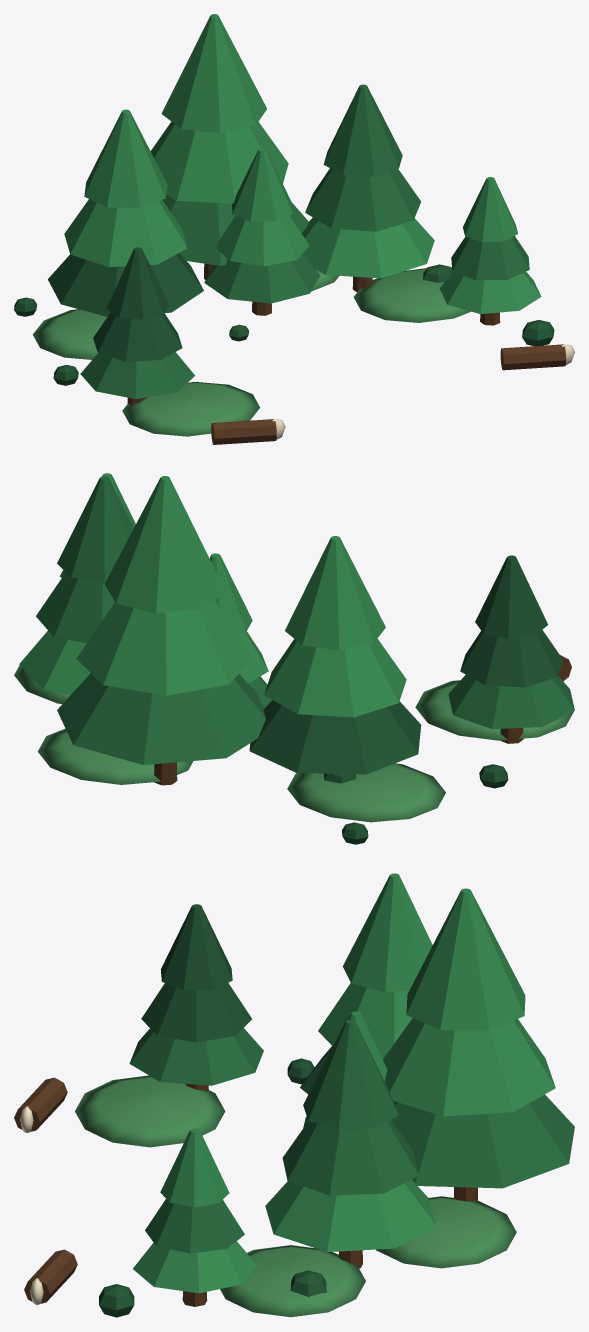
Rendered from terrain-forest-1.glb.
3 renders of one model, top to bottom at view 1: azimuth 30°, elevation 25°; view 2: azimuth 150°, elevation 25°; view 3: azimuth 270°, elevation 25°, orthographic. The views are drawn at different scales.
Visible parts, largest first — view 1: terrain-forest-1.002, terrain-forest-1.003, terrain-forest-1.004, terrain-forest-1.001, terrain-forest-1, terrain-forest-1.007, terrain-forest-1.006; view 2: terrain-forest-1.002, terrain-forest-1.003, terrain-forest-1.001, terrain-forest-1.004, terrain-forest-1.006, terrain-forest-1; view 3: terrain-forest-1.002, terrain-forest-1.003, terrain-forest-1.004, terrain-forest-1.001, terrain-forest-1, terrain-forest-1.007, terrain-forest-1.005.
Boxes of the visible parts, bbox=[...] form: terrain-forest-1.002: bbox=[64, 14, 541, 313]; terrain-forest-1.003: bbox=[80, 84, 529, 398]; terrain-forest-1.004: bbox=[32, 268, 470, 436]; terrain-forest-1.001: bbox=[48, 247, 203, 361]; terrain-forest-1: bbox=[127, 263, 566, 444]; terrain-forest-1.007: bbox=[229, 264, 554, 346]; terrain-forest-1.006: bbox=[14, 297, 78, 385]; terrain-forest-1.002: bbox=[19, 473, 406, 717]; terrain-forest-1.003: bbox=[36, 476, 574, 764]; terrain-forest-1.001: bbox=[249, 555, 562, 774]; terrain-forest-1.004: bbox=[14, 665, 573, 822]; terrain-forest-1.006: bbox=[323, 764, 508, 844]; terrain-forest-1: bbox=[154, 655, 571, 785]; terrain-forest-1.002: bbox=[133, 873, 555, 1293]; terrain-forest-1.003: bbox=[129, 1019, 574, 1253]; terrain-forest-1.004: bbox=[75, 1075, 516, 1317]; terrain-forest-1.001: bbox=[141, 904, 332, 1094]; terrain-forest-1: bbox=[14, 1077, 477, 1306]; terrain-forest-1.007: bbox=[99, 1270, 326, 1317]; terrain-forest-1.005: bbox=[20, 1106, 43, 1304].
Bounding box in the file's own units: 1.23 × 0.709 × 1.12.
